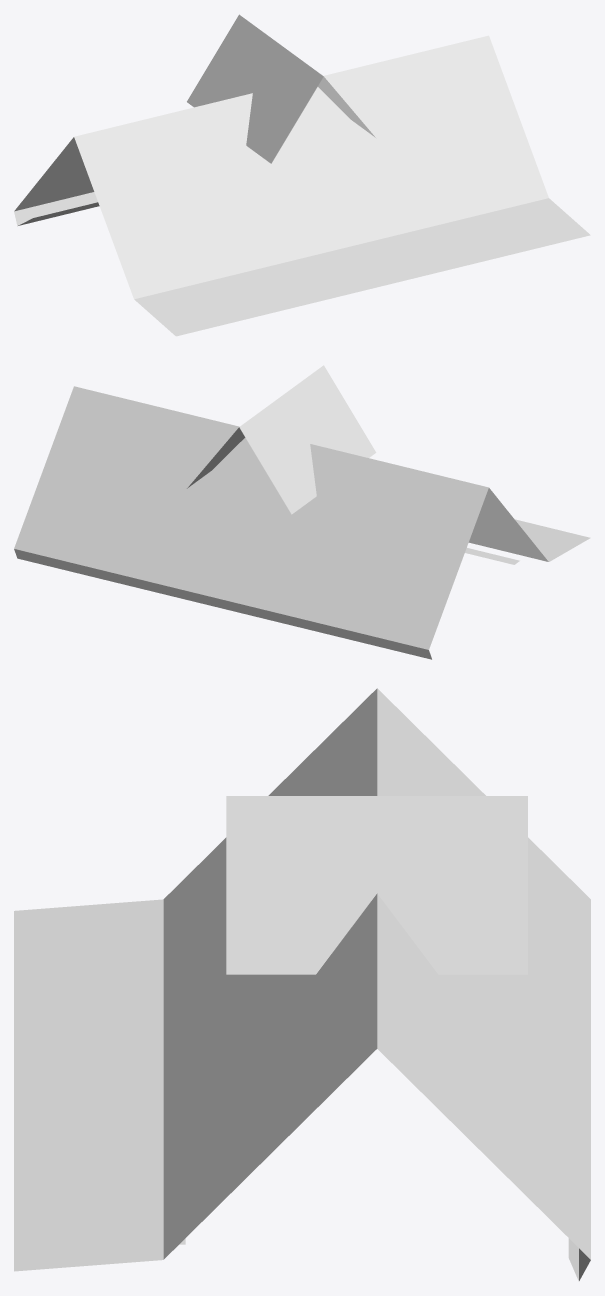
The model's file is SM_Bld_Station_01_snowroof.obj.
3 views of the same model, one above another, from view 1: azimuth 30°, elevation 25°; view 2: azimuth 150°, elevation 25°; view 3: azimuth 270°, elevation 25° (orthographic). The views are drawn at different scales.
Visible parts, largest first — view 1: SM_Bld_Station_04:Mesh; view 2: SM_Bld_Station_04:Mesh; view 3: SM_Bld_Station_04:Mesh.
Boxes of the visible parts, x1,y1,x2,y2 form: SM_Bld_Station_04:Mesh: (14, 14, 590, 336); SM_Bld_Station_04:Mesh: (14, 365, 590, 659); SM_Bld_Station_04:Mesh: (14, 688, 590, 1281).
Bounding box in the file's own units: 18.31 × 7.23 × 12.38.
Materials: 1 (1 with a texture image).
